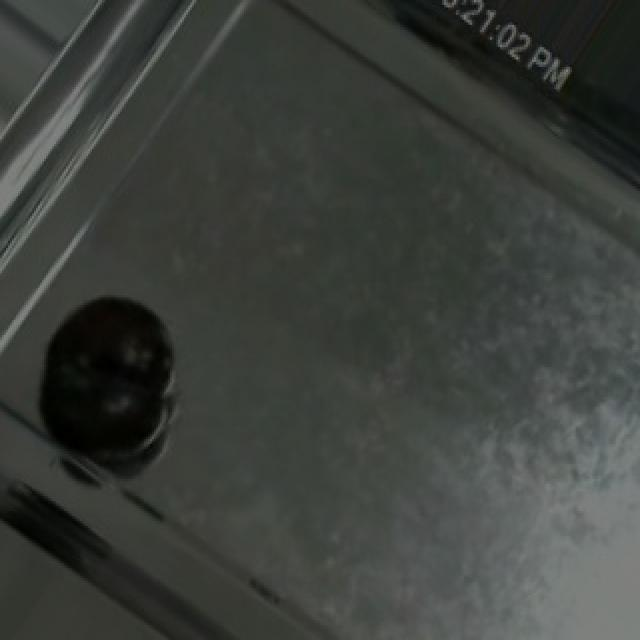Fruit: (18, 276, 196, 487)
